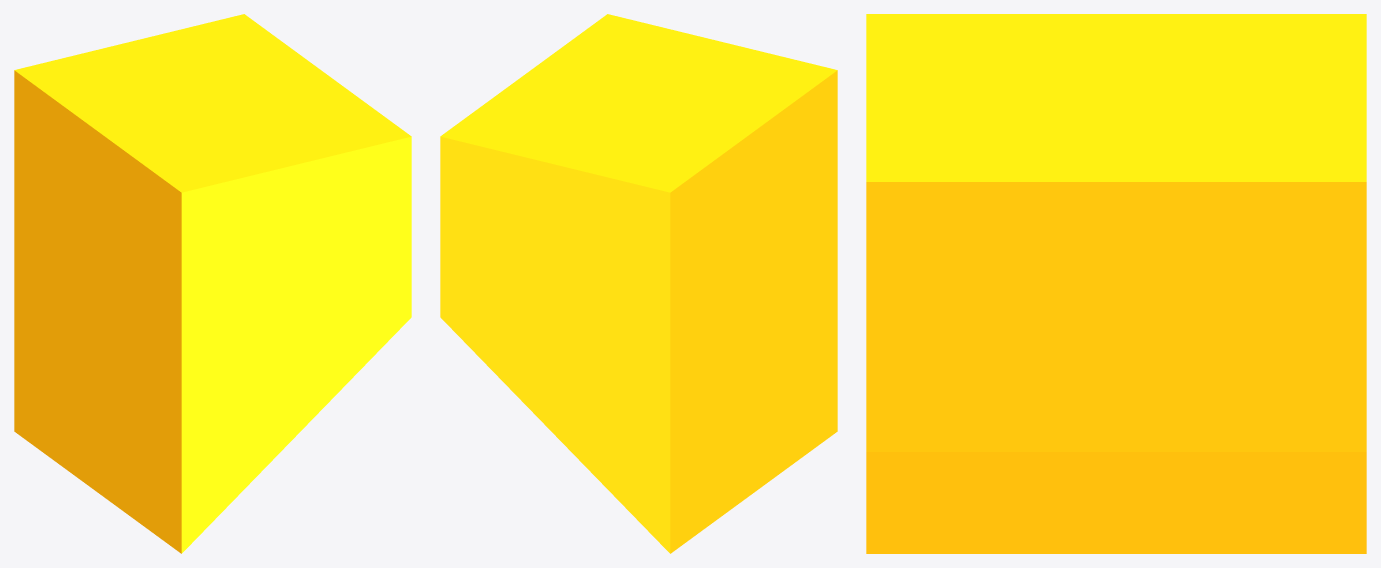
File: symbol,_DeltaBlock_Yellow.glb
3 renders of one model, left to right at view 1: azimuth 30°, elevation 25°; view 2: azimuth 150°, elevation 25°; view 3: azimuth 270°, elevation 25°, orthographic. The views are drawn at different scales.
Parts seen in each view (by area): view 1: ,_DeltaBlock_Yellow; view 2: ,_DeltaBlock_Yellow; view 3: ,_DeltaBlock_Yellow.
Boxes of the visible parts, x1,y1,x2,y2 form: ,_DeltaBlock_Yellow: (14, 14, 411, 553); ,_DeltaBlock_Yellow: (440, 14, 837, 553); ,_DeltaBlock_Yellow: (866, 14, 1366, 553).
Size of what is drawn, in the model's own units: 0.0357 by 0.0536 by 0.045.
Materials: 2 (2 with a texture image).
